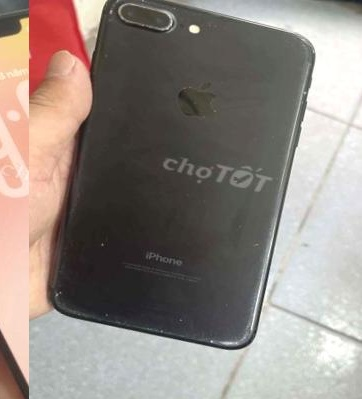scratch: (75, 304, 232, 351), (96, 0, 227, 48), (161, 69, 228, 127), (234, 256, 272, 331), (230, 210, 281, 255), (285, 29, 325, 67), (39, 277, 80, 314), (288, 65, 316, 107), (62, 181, 87, 216), (228, 329, 251, 347), (96, 45, 112, 60), (174, 310, 188, 322), (218, 296, 231, 308), (93, 238, 107, 249)
